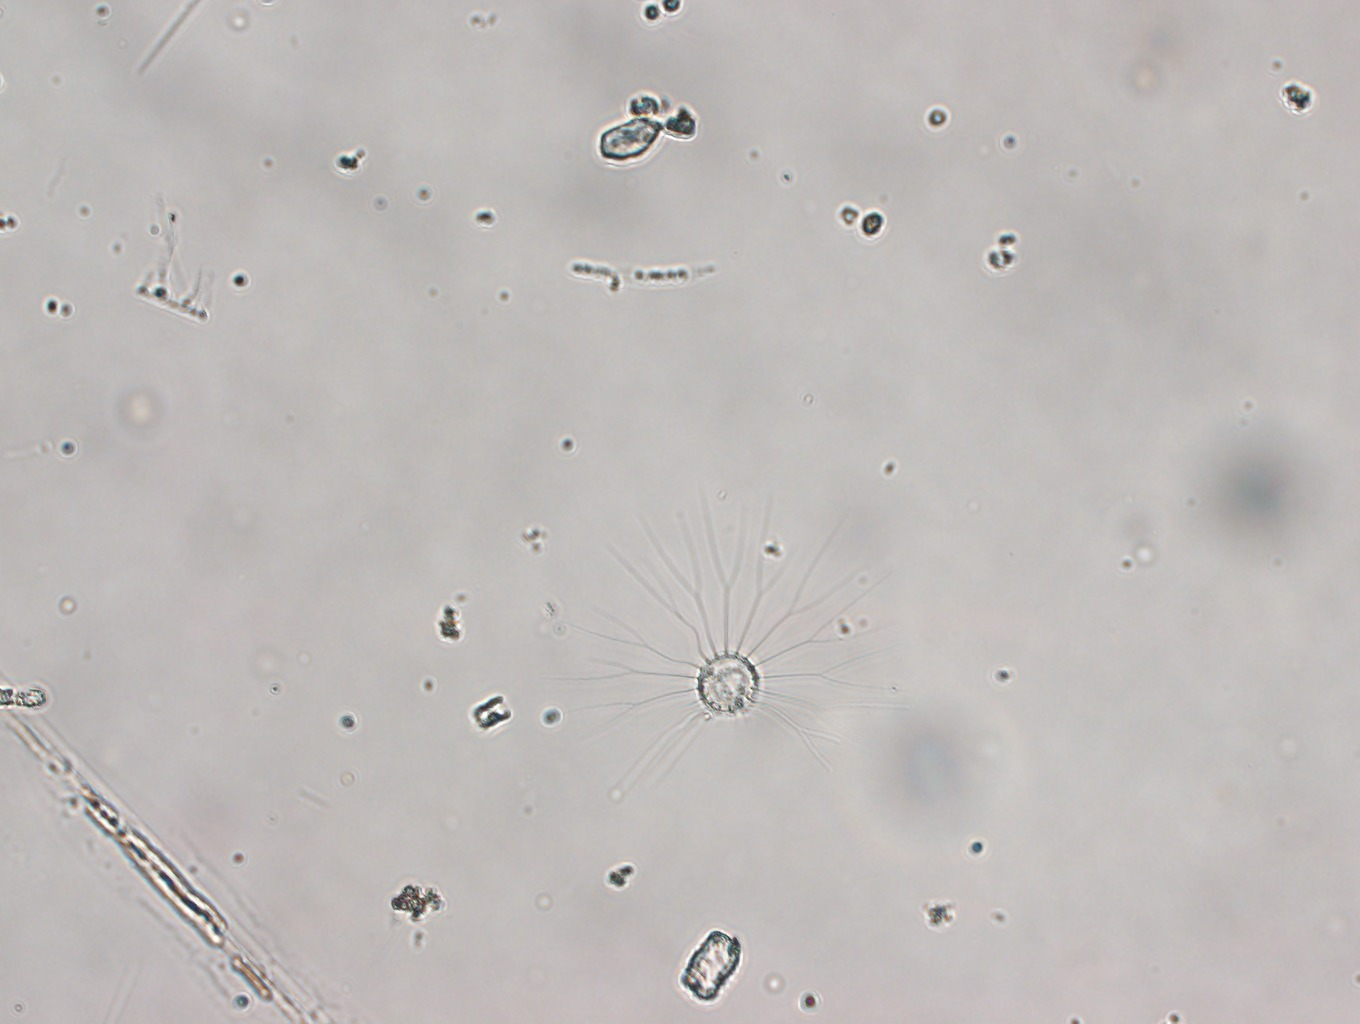bacteriastrum: (548, 466, 908, 790)
